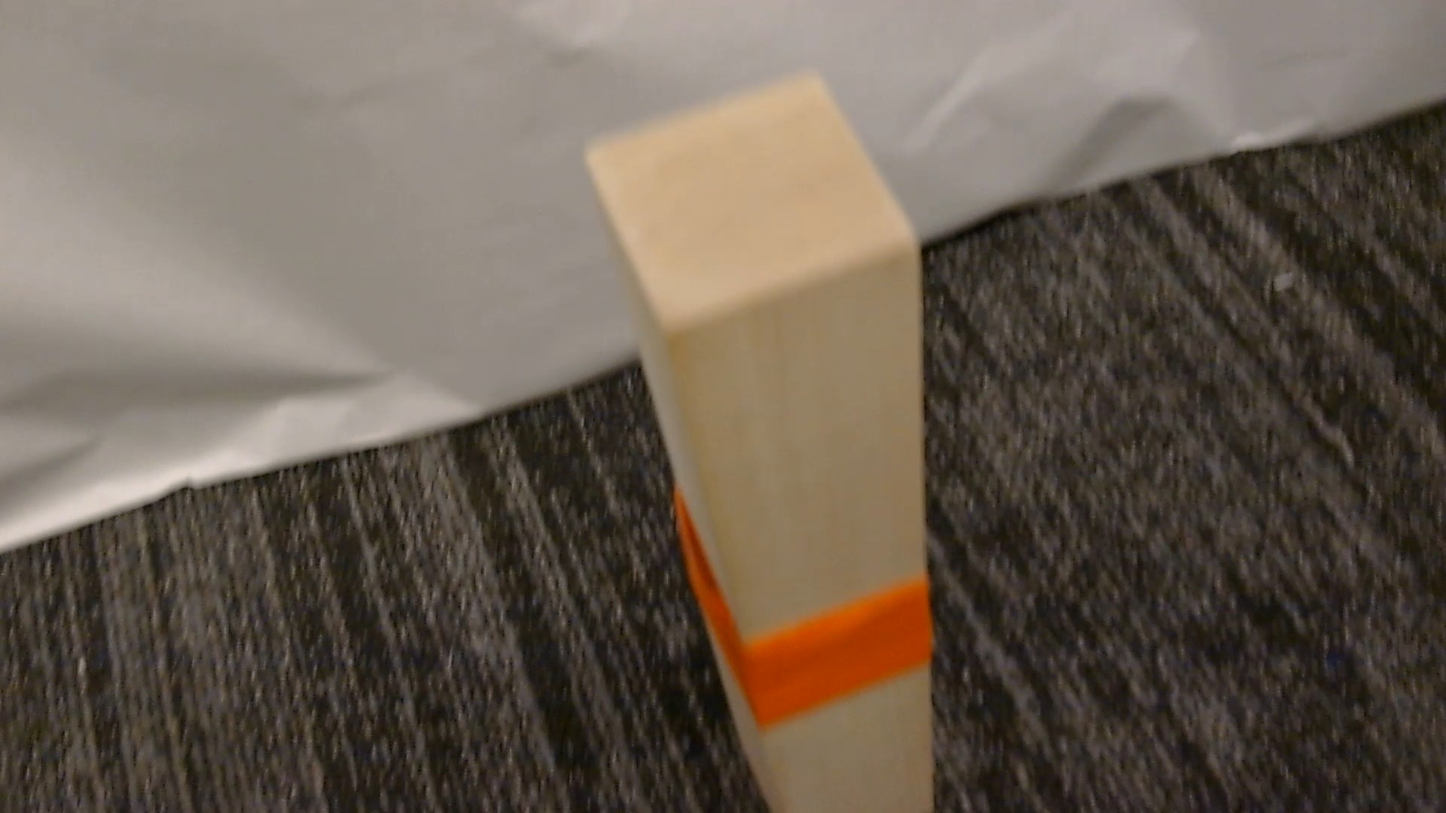Wooden Block: (587, 77, 934, 812)
